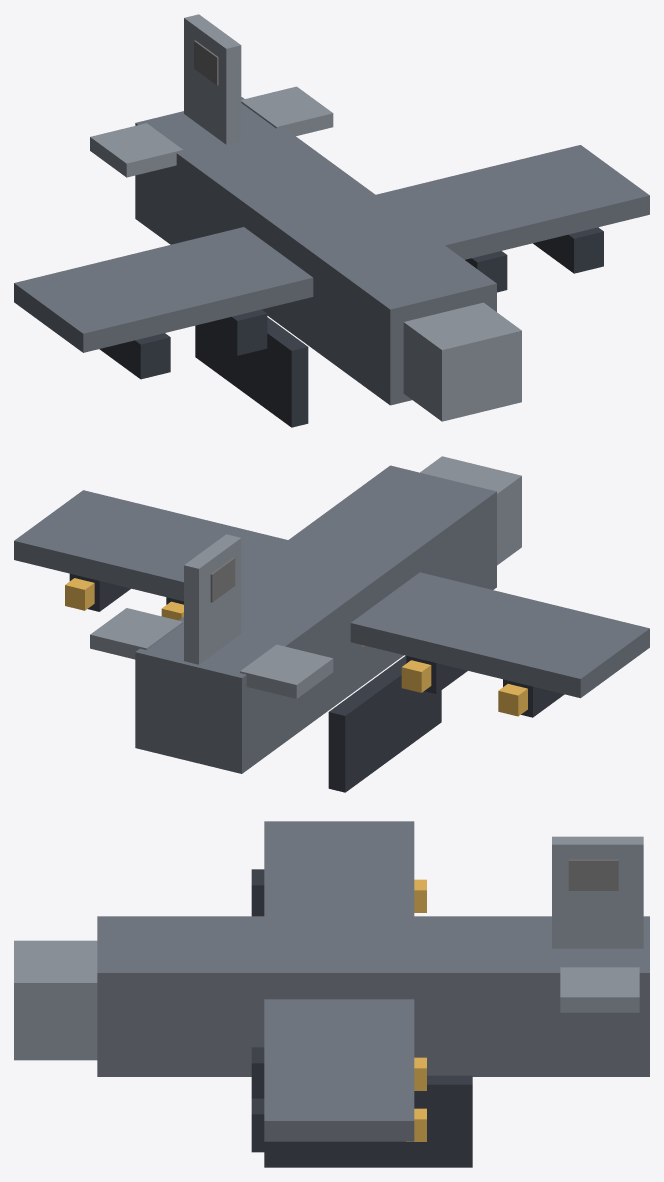
Rendered from vulture.obj.
3 renders of one model, top to bottom at view 1: azimuth 30°, elevation 25°; view 2: azimuth 150°, elevation 25°; view 3: azimuth 270°, elevation 25°, orthographic. The views are drawn at different scales.
Parts seen in each view (by area): view 1: vulture; view 2: vulture; view 3: vulture.
Part boxes in pixels (x1,y1,x2,y2): vulture: (14,14,649,427); vulture: (14,456,649,792); vulture: (14,821,649,1167).
Bounding box in the file's own units: 3.4 × 1.52 × 3.05.
